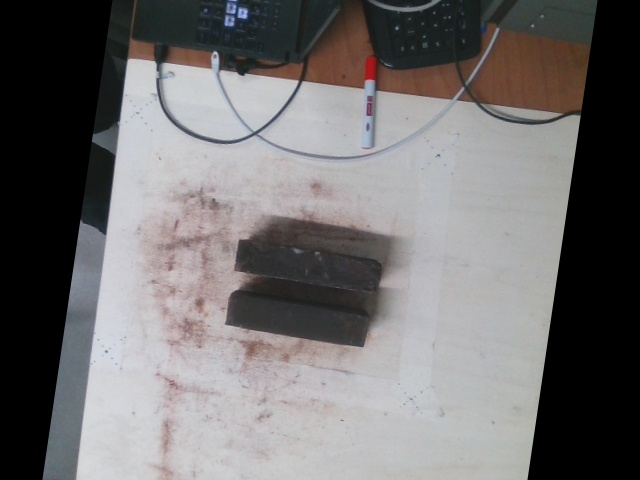brick-side: (233, 238, 379, 295), (228, 295, 367, 346)
